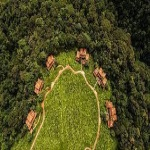Forest: (3, 2, 149, 148)
Uncultivated: (39, 57, 107, 150)
